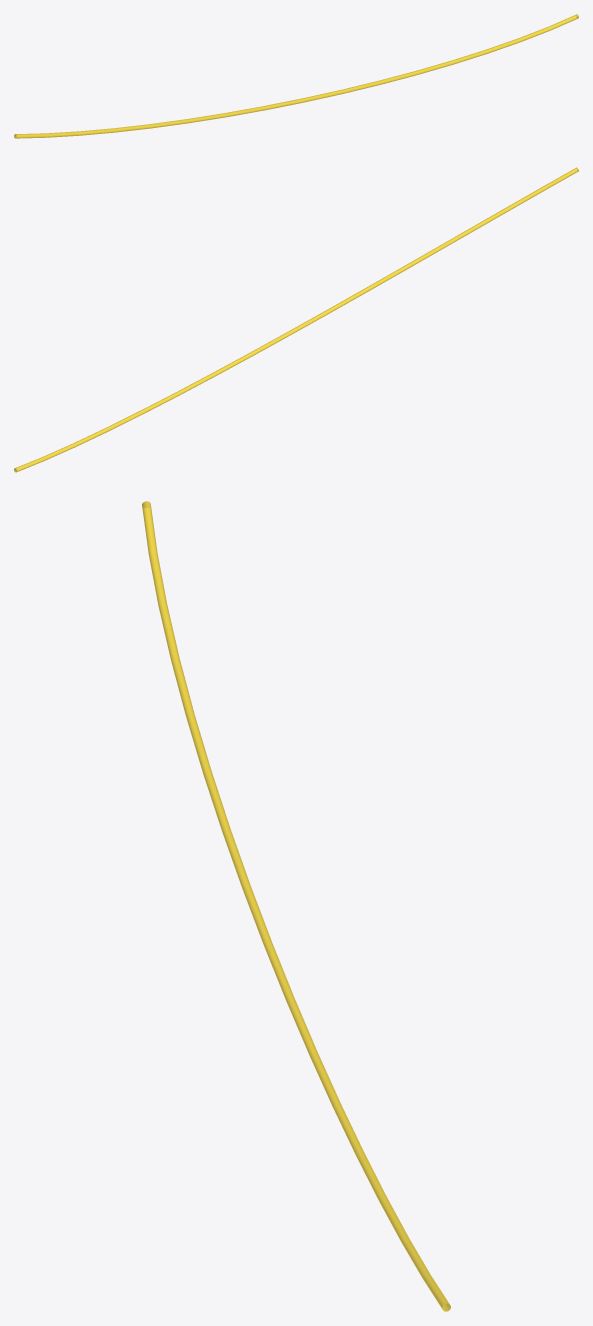
Rendered from Event_17758602_track_12.fbx.
3 renders of one model, top to bottom at view 1: azimuth 30°, elevation 25°; view 2: azimuth 210°, elevation 25°; view 3: azimuth 270°, elevation 25°, orthographic. The views are drawn at different scales.
Parts seen in each view (by area): view 1: Model; view 2: Model; view 3: Model.
Boxes of the visible parts, box(x1,y1,x2,y2) form: Model: box(14, 14, 578, 138); Model: box(14, 167, 578, 472); Model: box(142, 501, 450, 1311).
Size of the model in its own units: 6.57 by 0.9334 by 1.38.
